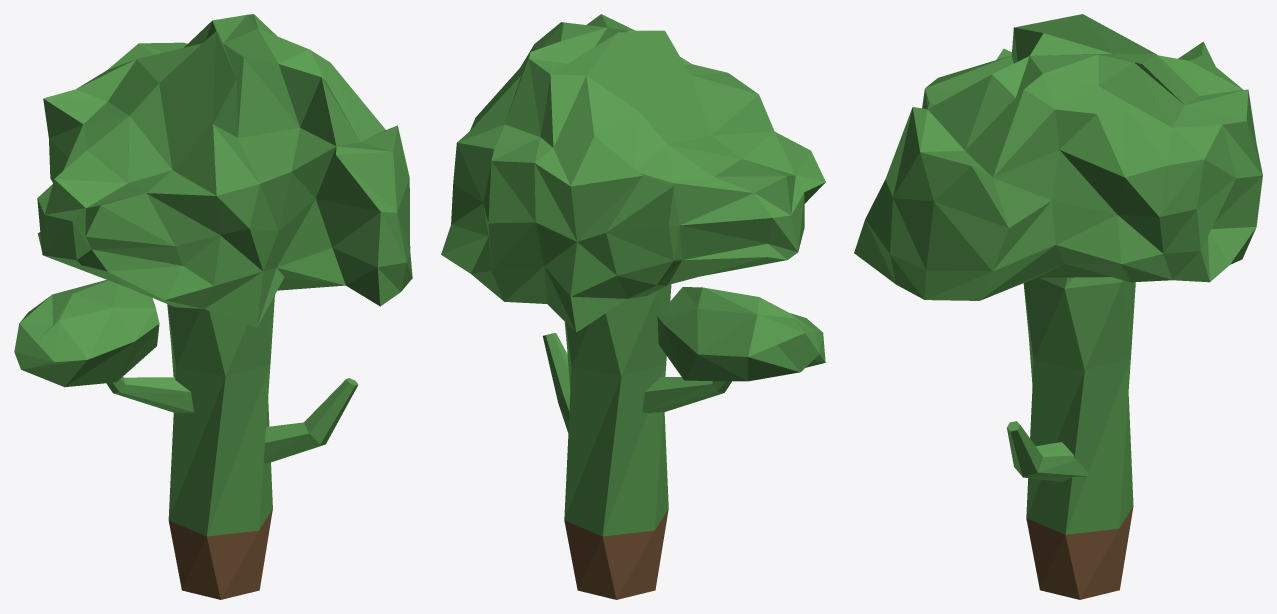
The model's file is tree3d-076.glb.
3 views of the same model, side by side, from view 1: azimuth 30°, elevation 25°; view 2: azimuth 150°, elevation 25°; view 3: azimuth 270°, elevation 25° (orthographic). The views are drawn at different scales.
Visible parts, largest first — view 1: tree3d-076; view 2: tree3d-076; view 3: tree3d-076.
Boxes of the visible parts, x1,y1,x2,y2 form: tree3d-076: (14,14,412,599); tree3d-076: (441,14,825,599); tree3d-076: (854,14,1262,599).
Bounding box in the file's own units: 0.6499 × 1 × 0.6562.
